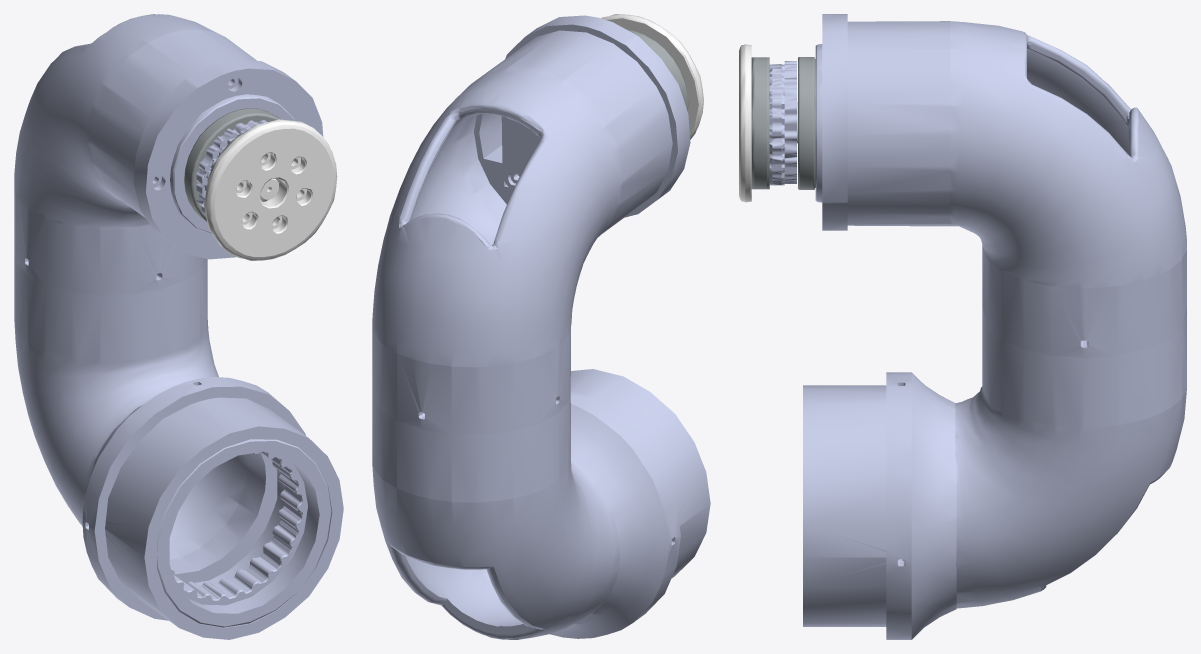
Rendered from upper_arm_link.dae.
3 views of the same model, side by side, from view 1: azimuth 30°, elevation 25°; view 2: azimuth 150°, elevation 25°; view 3: azimuth 270°, elevation 25° (orthographic). The views are drawn at different scales.
Visible parts, largest first — view 1: upper_arm_link; view 2: upper_arm_link; view 3: upper_arm_link.
Part boxes in pixels (bbox=[...]): upper_arm_link: bbox=[14, 14, 343, 639]; upper_arm_link: bbox=[372, 14, 710, 639]; upper_arm_link: bbox=[739, 14, 1186, 639].
Bounding box in the file's own units: 0.105 × 0.175 × 0.26.
